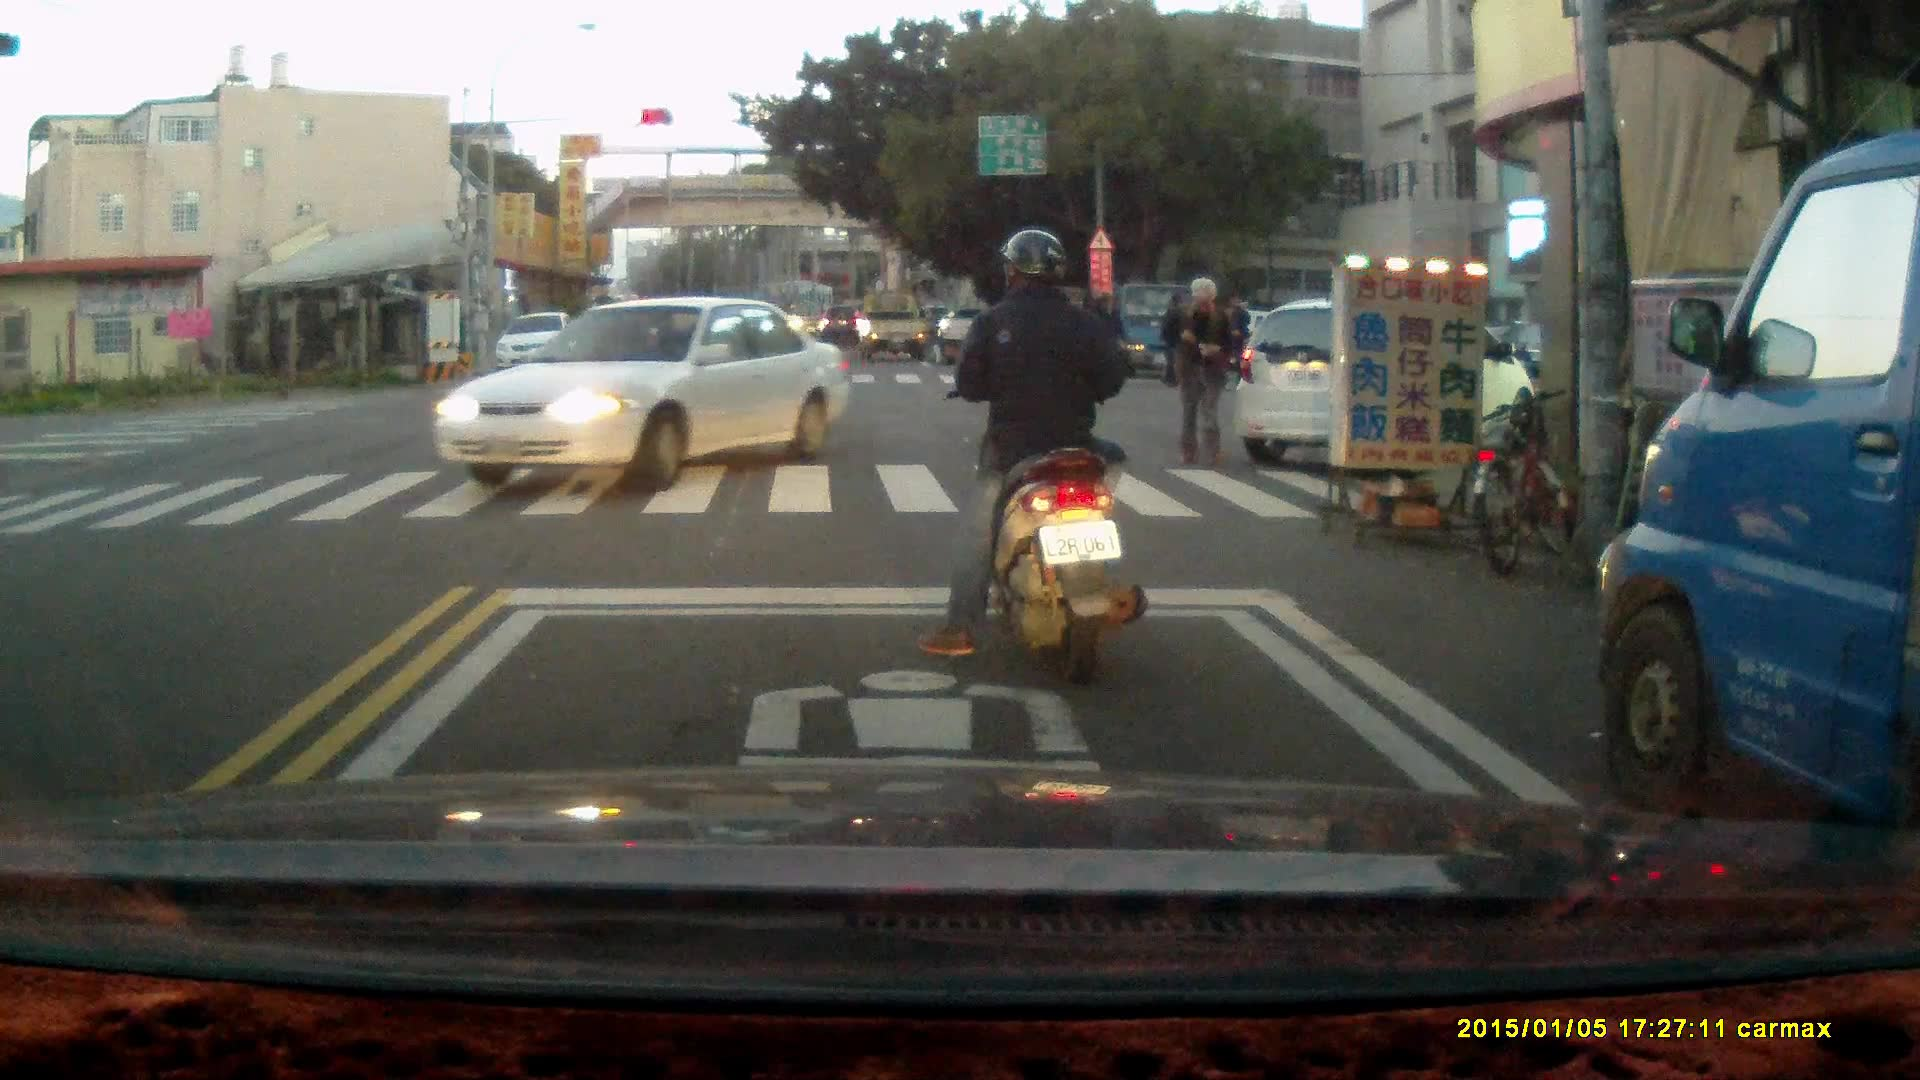pedestrian: (1156, 274, 1234, 469), (1089, 289, 1130, 388)
rider: (917, 232, 1148, 686)
vehicle: (1596, 120, 1920, 901), (436, 295, 846, 492), (1236, 303, 1533, 462), (493, 311, 584, 378), (857, 290, 933, 362)
